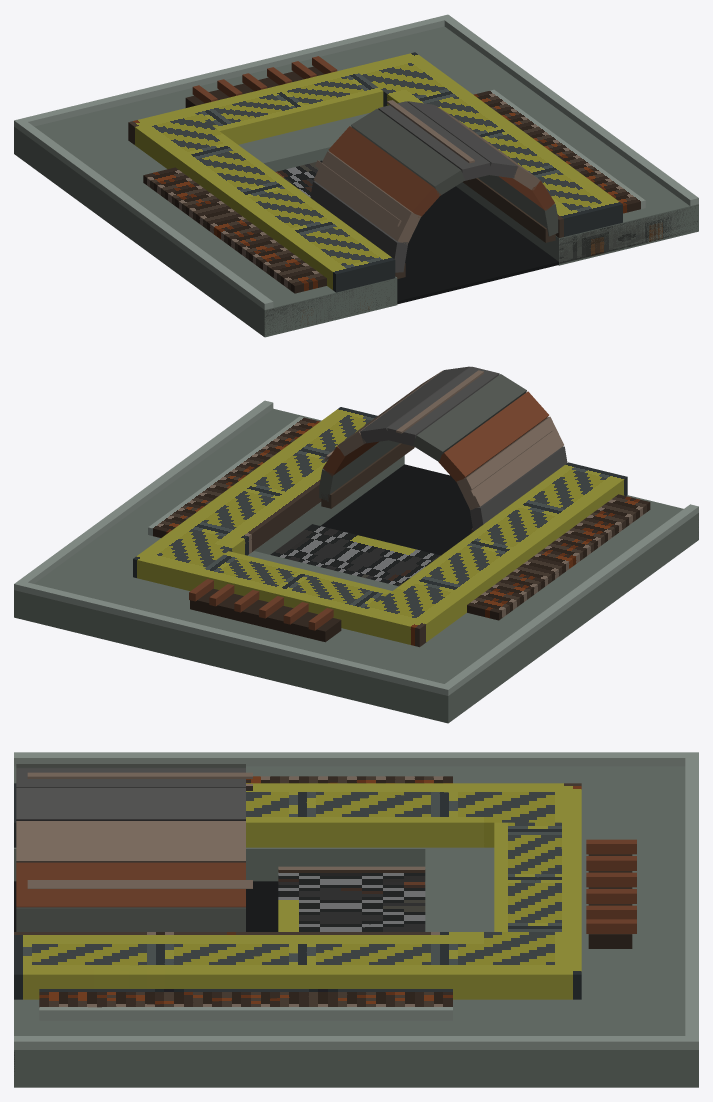
File: CMU3DFiltrationDistribution.glb
The picture shows the model from 3 angles, top to bottom: view 1: azimuth 30°, elevation 25°; view 2: azimuth 150°, elevation 25°; view 3: azimuth 270°, elevation 25°; orthographic projection. The views are drawn at different scales.
Visible parts, largest first — view 1: left solid deck, curved rusty hood segment (×9), left hazard rail, right solid deck, right hazard rail, recessed intake shadow bed, rear hazard cross rail, left copper return channel, rear pale rim, rear solid deck, right pale rim, left pale rim (+7 smaller); view 2: left solid deck, curved rusty hood segment (×9), right solid deck, left hazard rail, right hazard rail, recessed intake shadow bed, rear solid deck, rear hazard cross rail, left copper return channel, rear screen recess, rear pale rim, left pale rim (+5 smaller); view 3: right solid deck, curved rusty hood segment (×6), right hazard rail, left hazard rail, left solid deck, right copper return channel, rear solid deck, rear screen recess, rear hazard cross rail, right pale rim, left pale rim, rear copper manifold rib (×6) (+5 smaller).
Part boxes in pixels (box(x1,y1,x2,y2)): left solid deck: box(14, 98, 397, 337); curved rusty hood segment (×9): box(310, 101, 558, 272); left hazard rail: box(128, 108, 395, 292); right solid deck: box(320, 26, 698, 265); right hazard rail: box(352, 52, 622, 237); recessed intake shadow bed: box(397, 186, 558, 304); rear hazard cross rail: box(188, 68, 383, 144); left copper return channel: box(143, 167, 326, 293); rear pale rim: box(14, 14, 452, 129); rear solid deck: box(152, 59, 369, 171); right pale rim: box(444, 18, 698, 206); left pale rim: box(19, 122, 273, 309); left solid deck: box(315, 495, 698, 723); curved rusty hood segment (×9): box(319, 366, 567, 531); right solid deck: box(14, 408, 404, 651); left hazard rail: box(360, 462, 627, 647); right hazard rail: box(133, 407, 377, 591); recessed intake shadow bed: box(321, 464, 472, 555); rear solid deck: box(154, 551, 398, 690); rear hazard cross rail: box(196, 551, 391, 632); left copper return channel: box(467, 494, 650, 620); rear screen recess: box(270, 524, 440, 586); rear pale rim: box(14, 580, 453, 695); left pale rim: box(445, 504, 698, 691); right solid deck: box(14, 957, 698, 1087); curved rusty hood segment (×6): box(16, 764, 245, 931); right hazard rail: box(14, 932, 581, 999); left hazard rail: box(14, 783, 581, 847); left solid deck: box(14, 766, 685, 881); right copper return channel: box(39, 989, 452, 1020); rear solid deck: box(425, 849, 685, 956); rear screen recess: box(278, 866, 425, 931); rear hazard cross rail: box(494, 822, 581, 931); right pale rim: box(14, 1036, 685, 1049); left pale rim: box(14, 752, 685, 766); rear copper manifold rib (×6): box(586, 839, 636, 933).
Bounding box in the file's own units: 2.98 × 0.793 × 2.98.
Materials: 17 (8 with a texture image).
